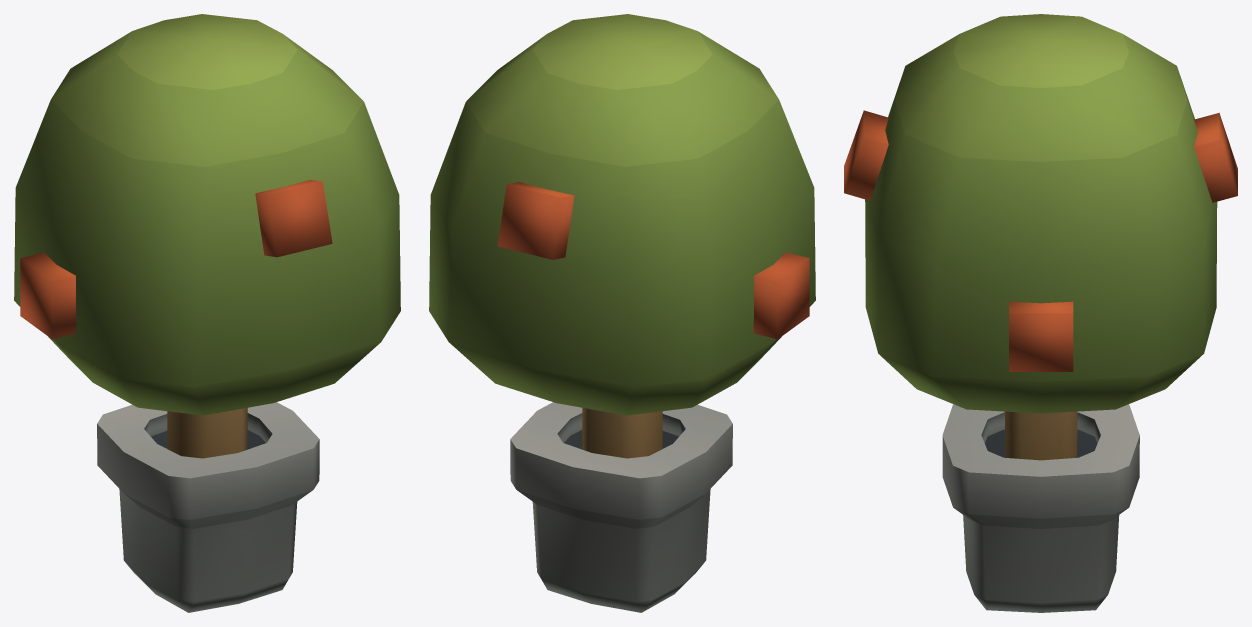
The model's file is bush_plant_small_stem_pot.fbx.
3 renders of one model, left to right at view 1: azimuth 30°, elevation 25°; view 2: azimuth 150°, elevation 25°; view 3: azimuth 270°, elevation 25°, orthographic.
Visible parts, largest first — view 1: bush_plant_small_stem_pot; view 2: bush_plant_small_stem_pot; view 3: bush_plant_small_stem_pot.
Boxes of the visible parts, x1,y1,x2,y2 form: bush_plant_small_stem_pot: (14,14,400,612); bush_plant_small_stem_pot: (429,14,815,612); bush_plant_small_stem_pot: (844,14,1237,612).
Bounding box in the file's own units: 59.62 × 90.14 × 58.75.
